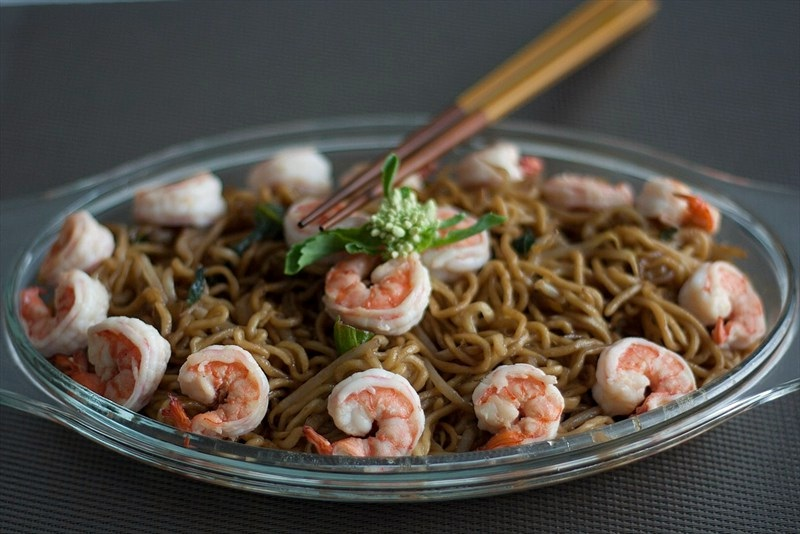Mie Goreng: (77, 142, 773, 450)
